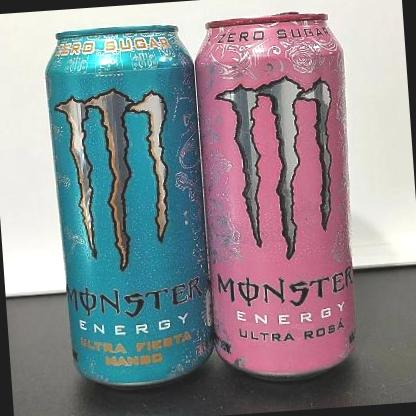alumunium_can: (191, 5, 376, 386), (39, 17, 222, 398)
